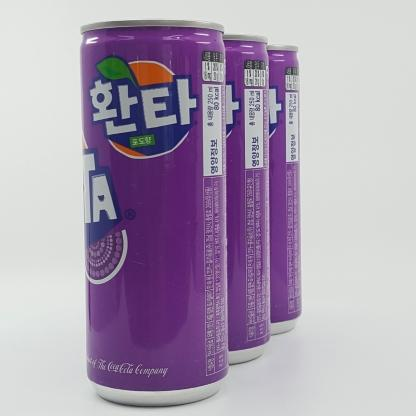------250ML: (79, 21, 228, 407)
